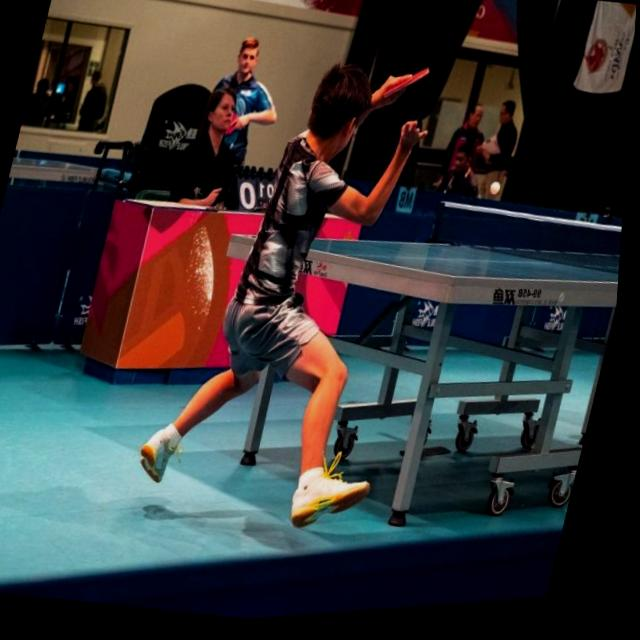TT Net: (425, 197, 622, 276)
TT Racket: (380, 62, 433, 104)
TT Table: (234, 235, 620, 281)
